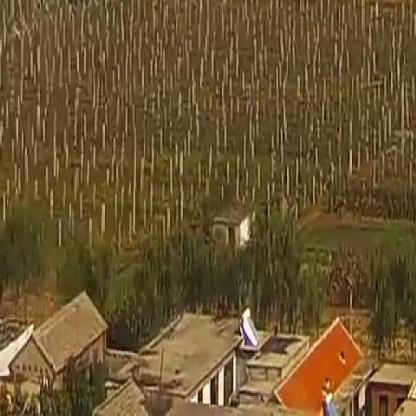other: (287, 328, 352, 408)
